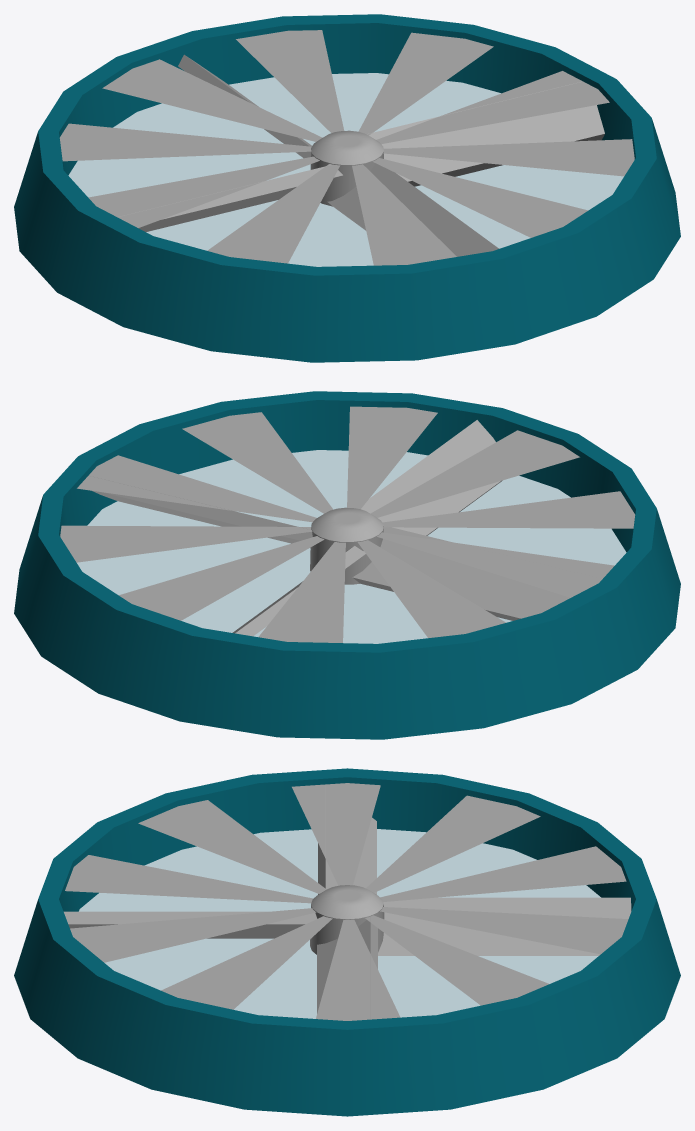
Rendered from Fan.fbx.
3 renders of one model, top to bottom at view 1: azimuth 30°, elevation 25°; view 2: azimuth 150°, elevation 25°; view 3: azimuth 270°, elevation 25°, orthographic.
Parts seen in each view (by area): view 1: polySurface36; view 2: polySurface36; view 3: polySurface36.
Part boxes in pixels (left/top/right/bottom): polySurface36: left=14, top=14, right=680, bottom=362; polySurface36: left=14, top=391, right=680, bottom=739; polySurface36: left=14, top=768, right=680, bottom=1116.
Bounding box in the file's own units: 102 × 13.53 × 102.
